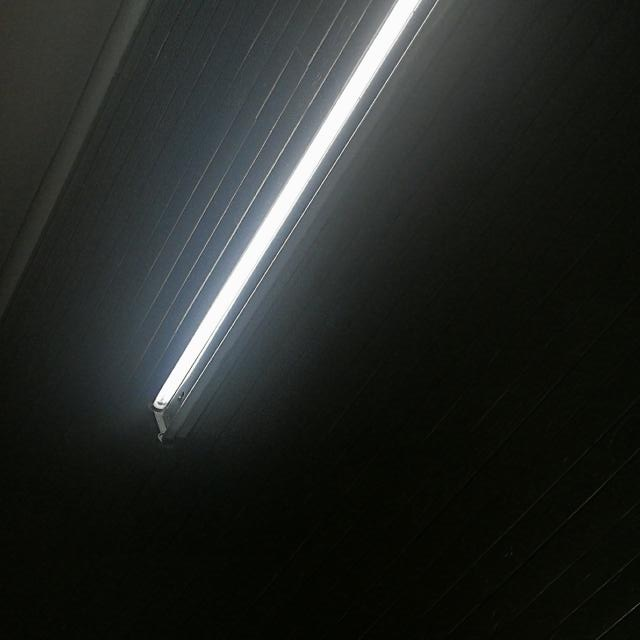fluorescent tube: (100, 0, 472, 445)
